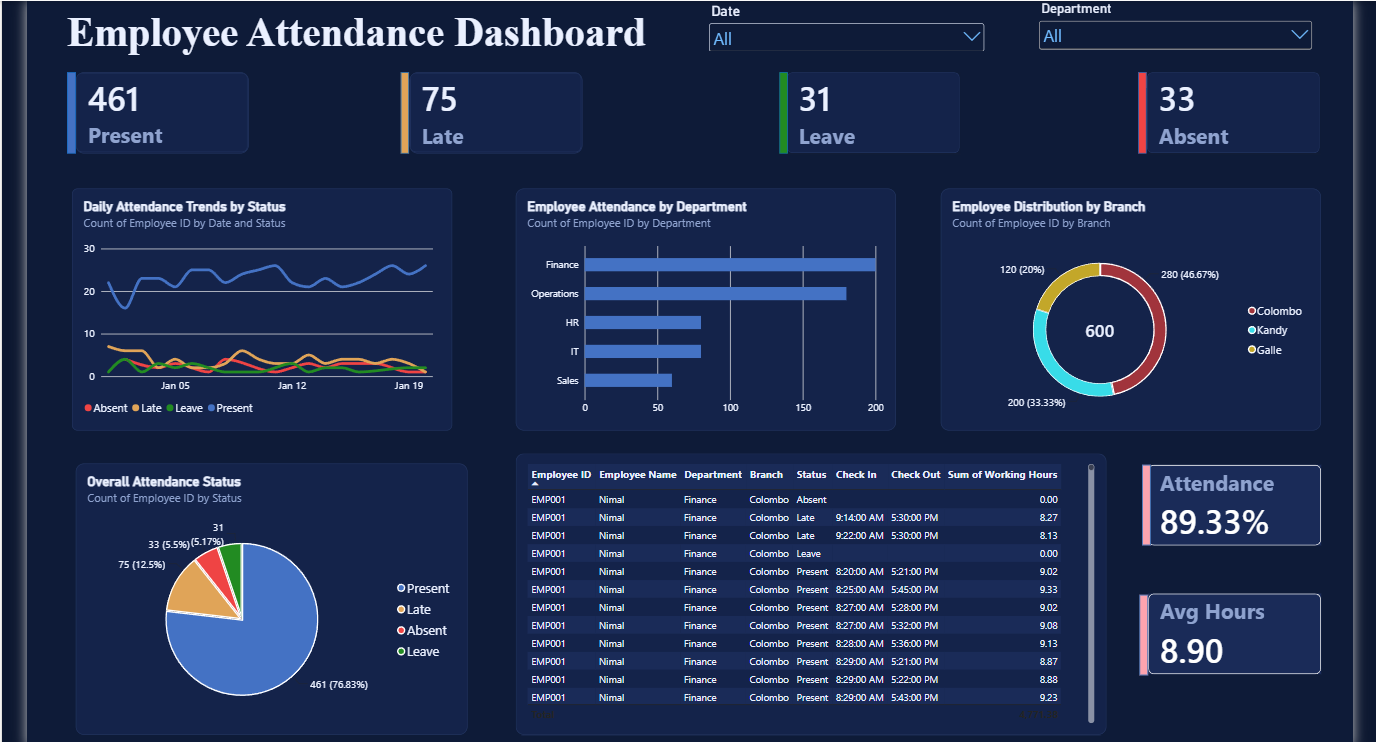

The dashboard page shown, as its layout file describes it:
{"tool":"powerbi","page":{"name":"Page 1","canvas":[1920,1080],"ordinal":0},"visuals":[{"type":"textbox","box":[12.5,0,242.5,37.5],"z":0},{"type":"cardVisual","fields":{"Data":["CountNonNull(Sheet1.Employee ID)"]},"box":[71.2,103.8,250.2,118],"z":1000},{"type":"cardVisual","fields":{"Data":["CountNonNull(Sheet1.Employee ID)"]},"box":[553.2,103.2,250.2,118],"z":2000},{"type":"cardVisual","fields":{"Data":["CountNonNull(Sheet1.Employee ID)"]},"box":[1100.6,103.8,250.2,118],"z":3000},{"type":"cardVisual","fields":{"Data":["CountNonNull(Sheet1.Employee ID)"]},"box":[1621.4,103.8,250.2,118],"z":4000},{"type":"lineChart","title":"Daily Attendance Trends by Status","fields":{"Category":["Sheet1.Date"],"Series":["Sheet1.Status"],"Y":["CountNonNull(Sheet1.Employee ID)"]},"box":[65.1,271.4,550,350],"z":5000},{"type":"clusteredBarChart","title":"Employee Attendance by Department","fields":{"Category":["Sheet1.Department"],"Y":["CountNonNull(Sheet1.Employee ID)"]},"box":[707.6,271.4,550,350],"z":6000},{"type":"donutChart","title":"Employee Distribution by Branch","fields":{"Category":["Sheet1.Branch"],"Y":["CountNonNull(Sheet1.Employee ID)"]},"box":[1322.9,271.4,550,350],"z":7000},{"type":"pieChart","title":"Overall Attendance Status","fields":{"Category":["Sheet1.Status"],"Y":["CountNonNull(Sheet1.Employee ID)"]},"box":[70,670,567.5,392.5],"z":8000},{"type":"tableEx","fields":{"Values":["Sheet1.Employee ID","Sheet1.Employee Name","Sheet1.Department","Sheet1.Branch","Sheet1.Status","Sheet1.Check In","Sheet1.Check Out","Sum(Sheet1.Working Hours)"]},"box":[707.5,655,855,407.5],"z":9000},{"type":"slicer","fields":{"Values":["Sheet1.Date"]},"box":[982.5,2.5,408.1,70.3],"z":10000},{"type":"slicer","fields":{"Values":["Sheet1.Department"]},"box":[1460,0,404.8,100],"z":11000},{"type":"textbox","box":[57.5,2.5,885,100],"z":12000},{"type":"shape","box":[58.1,103,12.9,117.7],"z":13000},{"type":"shape","box":[541.9,103.2,12,117.7],"z":14000},{"type":"shape","box":[1088.7,103.2,12,117.7],"z":15000},{"type":"shape","box":[1609.7,103.2,12,117.7],"z":16000},{"type":"cardVisual","fields":{"Data":["Sheet1.Attendance Rate"]},"box":[1622.9,670.8,250,117],"z":17000},{"type":"shape","box":[1614.6,670.8,12.5,116.7],"z":18000},{"type":"cardVisual","fields":{"Data":["Sheet1.Avg Working Hours"]},"box":[1622.9,858.3,250,117],"z":19000},{"type":"shape","box":[1610.6,859.6,12.5,116.7],"z":20001}]}

Visuals, with their boxes on the page's 1920x1080 design canvas (x1, y1, x2, y2). These are canvas units, not pixel positions in the 1376x742 screenshot, which may show the page scaled, cropped or inside an application window:
textbox: 12 0 255 38
cardVisual - CountNonNull(Sheet1.Employee ID): 71 104 321 222
cardVisual - CountNonNull(Sheet1.Employee ID): 553 103 803 221
cardVisual - CountNonNull(Sheet1.Employee ID): 1101 104 1351 222
cardVisual - CountNonNull(Sheet1.Employee ID): 1621 104 1872 222
"Daily Attendance Trends by Status" lineChart: 65 271 615 621
"Employee Attendance by Department" clusteredBarChart: 708 271 1258 621
"Employee Distribution by Branch" donutChart: 1323 271 1873 621
"Overall Attendance Status" pieChart: 70 670 638 1062
tableEx - Sheet1.Employee ID x Sheet1.Employee Name: 708 655 1562 1062
slicer - Sheet1.Date: 982 2 1391 73
slicer - Sheet1.Department: 1460 0 1865 100
textbox: 58 2 942 102
shape: 58 103 71 221
shape: 542 103 554 221
shape: 1089 103 1101 221
shape: 1610 103 1622 221
cardVisual - Sheet1.Attendance Rate: 1623 671 1873 788
shape: 1615 671 1627 788
cardVisual - Sheet1.Avg Working Hours: 1623 858 1873 975
shape: 1611 860 1623 976
